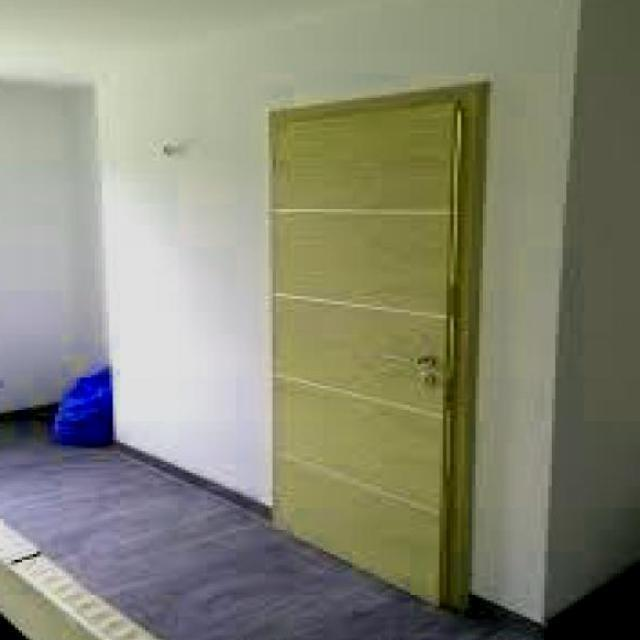door: (265, 81, 484, 611)
